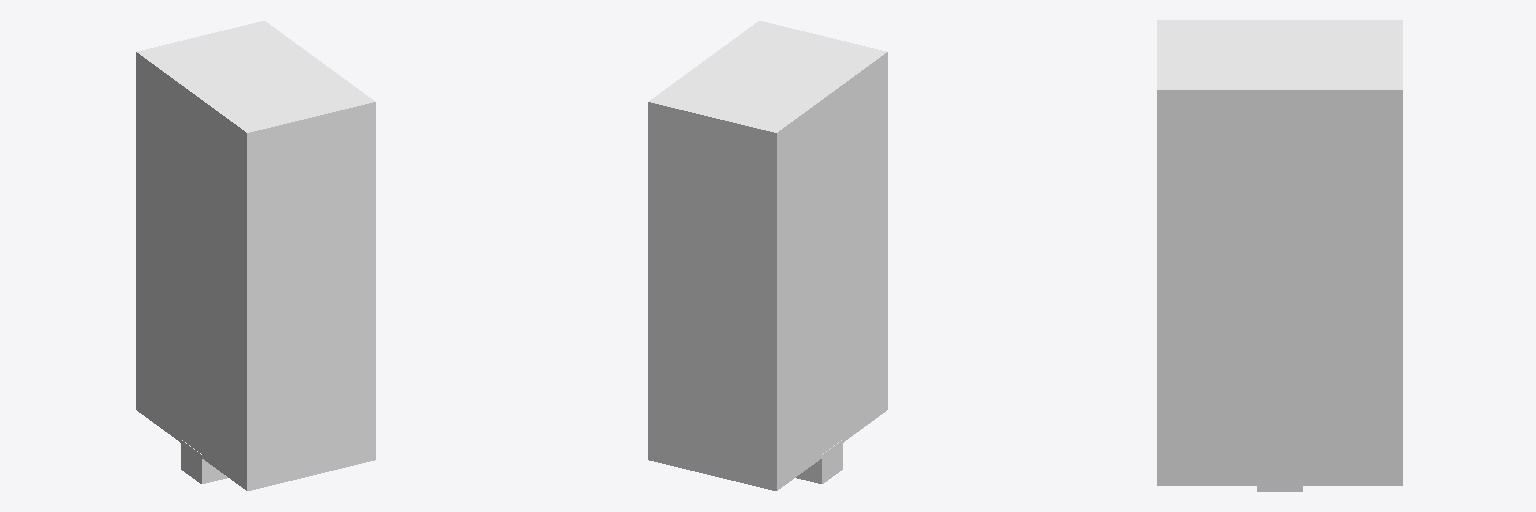
robot.urdf — singleleg:
<?xml version="1.0" encoding="utf-8"?>
<!-- This URDF was automatically created by SolidWorks to URDF Exporter! Originally created by [author] ([email redacted]) 
     Commit Version: 1.6.0-1-g15f4949  Build Version: 1.6.7594.29634
     For more information, please see http://wiki.ros.org/sw_urdf_exporter -->
<robot
  name="singleleg">
  <link
    name="body">
    <inertial>
      <origin
        xyz="-8.921E-19 -1.956E-18 9.8175E-10"
        rpy="0 0 0" />
      <mass
        value="4" />
      <inertia
        ixx="0.00012"
        ixy="-9.7442E-21"
        ixz="1.4359E-21"
        iyy="8.76E-05"
        iyz="5.3091E-21"
        izz="5.4E-05" />
    </inertial>
    <visual>
      <origin
        xyz="0 0 0"
        rpy="0 0 0" />
      <geometry>
        <mesh
          filename="meshes/body.STL" />
      </geometry>
      <material
        name="">
        <color
          rgba="1 1 1 1" />
      </material>
    </visual>
    <collision>
      <origin
        xyz="0 0 0"
        rpy="0 0 0" />
      <geometry>
        <mesh
          filename="meshes/body.STL" />
      </geometry>
    </collision>
  </link>
  <link
    name="up_leg">
    <inertial>
      <origin
        xyz="7.8462E-19 -2.1082E-17 -0.025"
        rpy="0 0 0" />
      <mass
        value="2" />
      <inertia
        ixx="4E-06"
        ixy="5.4734E-23"
        ixz="-3.5546E-23"
        iyy="3.7E-06"
        iyz="-2.6487E-22"
        izz="5E-07" />
    </inertial>
    <visual>
      <origin
        xyz="0 0 0"
        rpy="0 0 0" />
      <geometry>
        <mesh
          filename="meshes/up_leg.STL" />
      </geometry>
      <material
        name="">
        <color
          rgba="1 1 1 1" />
      </material>
    </visual>
    <collision>
      <origin
        xyz="0 0 0"
        rpy="0 0 0" />
      <geometry>
        <mesh
          filename="meshes/up_leg.STL" />
      </geometry>
    </collision>
  </link>
  <joint
    name="joint_up_leg"
    type="revolute">
    <origin
      xyz="0 0 -0.03"
      rpy="0 0 0" />
    <parent
      link="body" />
    <child
      link="up_leg" />
    <axis
      xyz="0 -1 0" />
    <limit
      lower="-3.14"
      upper="3.14"
      effort="100"
      velocity="1" />
  </joint>
  <link
    name="low_leg">
    <inertial>
      <origin
        xyz="6.3874E-18 2.1466E-17 -0.025"
        rpy="0 0 0" />
      <mass
        value="2" />
      <inertia
        ixx="4E-06"
        ixy="-7.389E-23"
        ixz="3.8195E-22"
        iyy="3.7E-06"
        iyz="3.4604E-22"
        izz="5E-07" />
    </inertial>
    <visual>
      <origin
        xyz="0 0 0"
        rpy="0 0 0" />
      <geometry>
        <mesh
          filename="meshes/low_leg.STL" />
      </geometry>
      <material
        name="">
        <color
          rgba="1 1 1 1" />
      </material>
    </visual>
    <collision>
      <origin
        xyz="0 0 0"
        rpy="0 0 0" />
      <geometry>
        <mesh
          filename="meshes/low_leg.STL" />
      </geometry>
    </collision>
  </link>
  <joint
    name="joint_low_leg"
    type="revolute">
    <origin
      xyz="0 0 -0.05"
      rpy="0 0 0" />
    <parent
      link="up_leg" />
    <child
      link="low_leg" />
    <axis
      xyz="0 -1 0" />
    <limit
      lower="-3.14"
      upper="3.14"
      effort="100"
      velocity="1" />
  </joint>
  <link
    name="heel">
    <inertial>
      <origin
        xyz="0.0053226 8.8969E-18 -1.5613E-17"
        rpy="0 0 0" />
      <mass
        value="2" />
      <inertia
        ixx="2.5625E-06"
        ixy="-1.8007E-22"
        ixz="1.027E-21"
        iyy="1E-05"
        iyz="2.9722E-38"
        izz="1.0563E-05" />
    </inertial>
    <visual>
      <origin
        xyz="0 0 0"
        rpy="0 0 0" />
      <geometry>
        <mesh
          filename="meshes/heel.STL" />
      </geometry>
      <material
        name="">
        <color
          rgba="1 1 1 1" />
      </material>
    </visual>
    <collision>
      <origin
        xyz="0 0 0"
        rpy="0 0 0" />
      <geometry>
        <mesh
          filename="meshes/heel.STL" />
      </geometry>
    </collision>
  </link>
  <joint
    name="joint_hell"
    type="revolute">
    <origin
      xyz="-0.00532262680792502 0 -0.05"
      rpy="0 0 0" />
    <parent
      link="low_leg" />
    <child
      link="heel" />
    <axis
      xyz="0 1 0" />
    <limit
      lower="-3.14"
      upper="3.14"
      effort="100"
      velocity="1" />
  </joint>
</robot>

--- What the picture shows (computed from the rendered views, not written in the file) ---
Views: 3 orthographic renders of the robot side by side, from view 1: azimuth 30°, elevation 25°; view 2: azimuth 150°, elevation 25°; view 3: azimuth 270°, elevation 25°.
Model singleleg with 4 links and 3 joints (3 revolute), rooted at body, posed every joint at zero.
Visible links, largest first — view 1: body, heel; view 2: body, heel; view 3: body.
Boxes of the visible links, x1=… form: body: x1=136, y1=21, x2=375, y2=490; heel: x1=181, y1=440, x2=227, y2=483; body: x1=648, y1=21, x2=887, y2=490; heel: x1=796, y1=440, x2=842, y2=483; body: x1=1157, y1=20, x2=1402, y2=485.
Bounding box of the posed robot: 0.0903 × 0.135 × 0.2575 m (x, y, z).
Meshes: 4 distinct files referenced, 4 mesh visuals loaded (4 binary STL).
